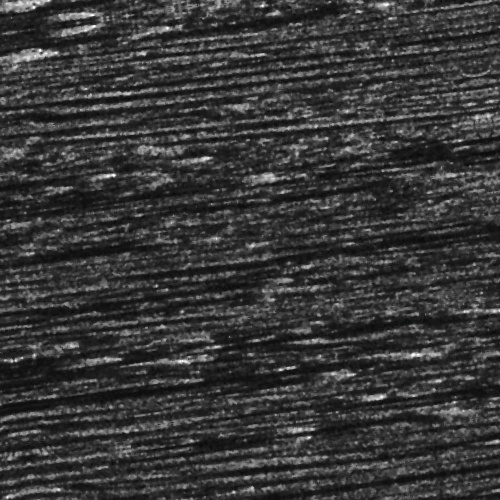object: (372, 428, 455, 443), (226, 428, 319, 435), (230, 439, 271, 442)
shadow: (89, 428, 413, 443), (187, 490, 500, 500), (160, 428, 272, 435), (137, 439, 251, 442)
